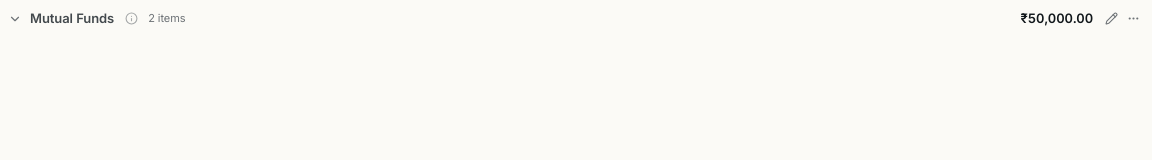
Scenario: SubCategoryGroupHeader — rename & description editing › opens the inline editor with the current name and description prefilled
Click the button named "rename group mutual funds": (1112, 18) [1101,8,1122,29]
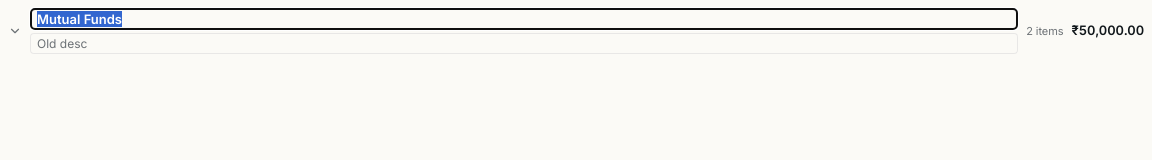
Expected: the field named "Rename Mutual Funds" holds "Mutual Funds", [30,8,1018,30]
Expected: the field named "Description for Mutual Funds" holds "Old desc", [30,33,1018,54]
